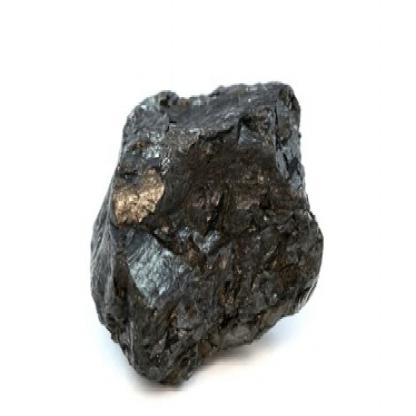Sedimentary_coal: (88, 70, 334, 388)
